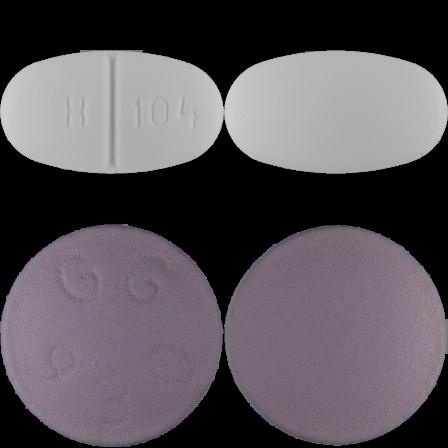50090-0775: (0, 0, 224, 224)
